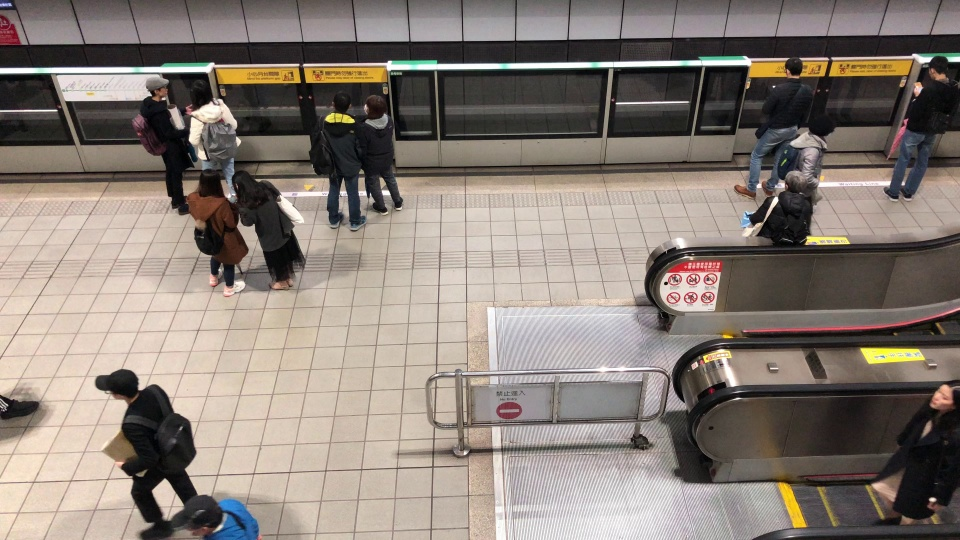person_head: (178, 493, 224, 533), (91, 370, 141, 406), (926, 382, 960, 417), (230, 168, 260, 201), (196, 169, 226, 200), (920, 55, 952, 84), (780, 170, 808, 201), (809, 111, 837, 138), (189, 80, 214, 109), (362, 94, 388, 120), (781, 54, 804, 83), (145, 74, 170, 100), (326, 91, 352, 115)
person_vbox: (81, 370, 201, 540), (866, 382, 960, 528), (881, 55, 960, 204), (733, 54, 813, 199), (228, 167, 307, 295), (128, 74, 199, 216), (179, 169, 251, 297), (306, 91, 370, 232), (181, 79, 245, 202), (353, 94, 406, 218), (775, 110, 840, 210), (741, 170, 816, 249), (171, 492, 262, 540)
